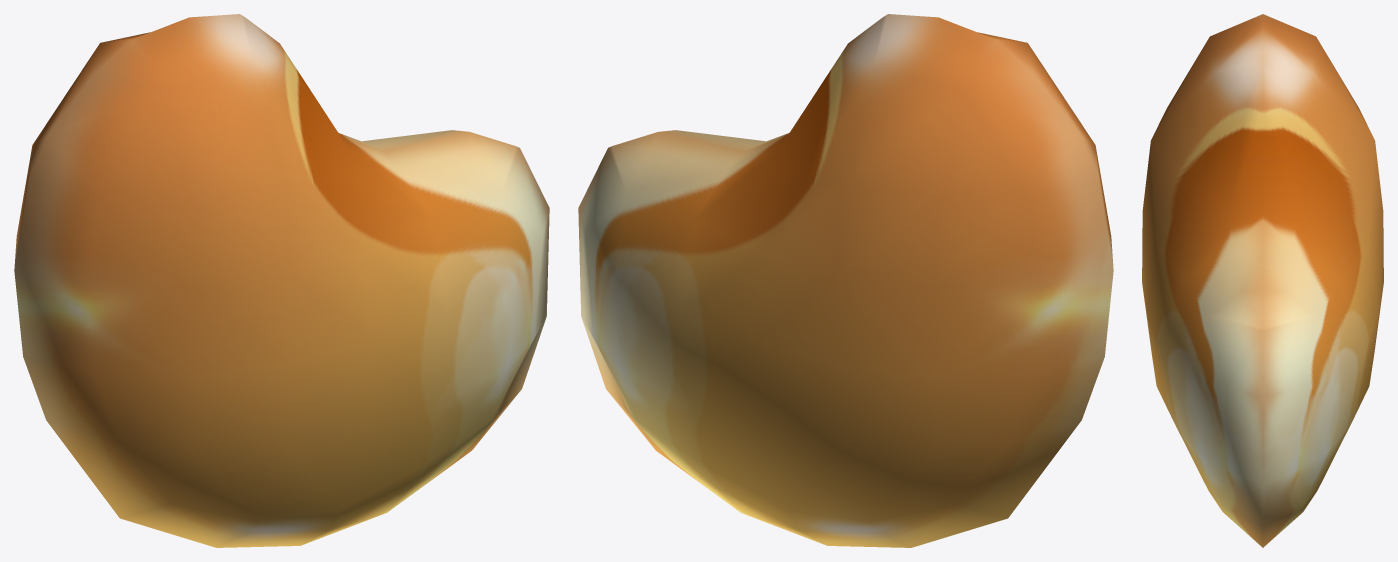
The model's file is jindou01.FBX.
The picture shows the model from 3 angles, left to right: view 1: azimuth 30°, elevation 25°; view 2: azimuth 150°, elevation 25°; view 3: azimuth 270°, elevation 25°; orthographic projection. The views are drawn at different scales.
Parts seen in each view (by area): view 1: jindou01; view 2: jindou01; view 3: jindou01.
Boxes of the visible parts, box(x1,y1,x2,y2) form: jindou01: box(14, 14, 549, 547); jindou01: box(578, 14, 1113, 547); jindou01: box(1142, 14, 1383, 547).
Bounding box in the file's own units: 160 × 159 × 77.28.
